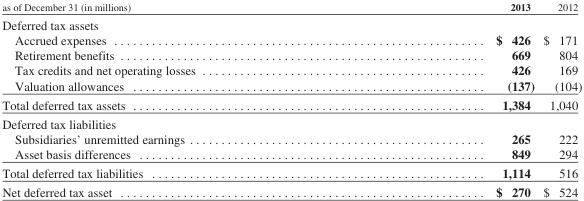table: (1, 0, 581, 198)
table column: (1, 0, 345, 198), (345, 0, 538, 198), (538, 0, 581, 198)
table column header: (1, 0, 581, 15)
table projected row header: (1, 15, 581, 32), (1, 113, 581, 130)
table row: (1, 94, 581, 113), (1, 162, 581, 181), (1, 15, 581, 32), (1, 77, 581, 94), (1, 113, 581, 130), (1, 145, 581, 162), (1, 181, 581, 198), (1, 0, 581, 15), (1, 32, 581, 47), (1, 47, 581, 62), (1, 62, 581, 77), (1, 130, 581, 145)
